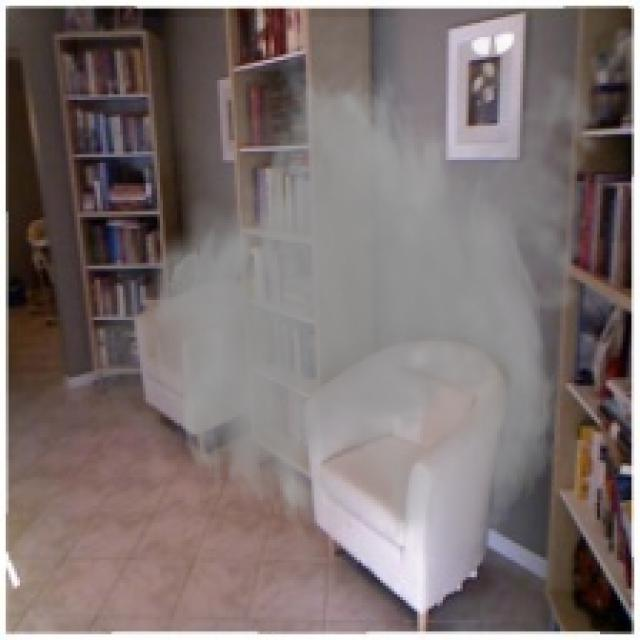smoke: (77, 17, 617, 563)
